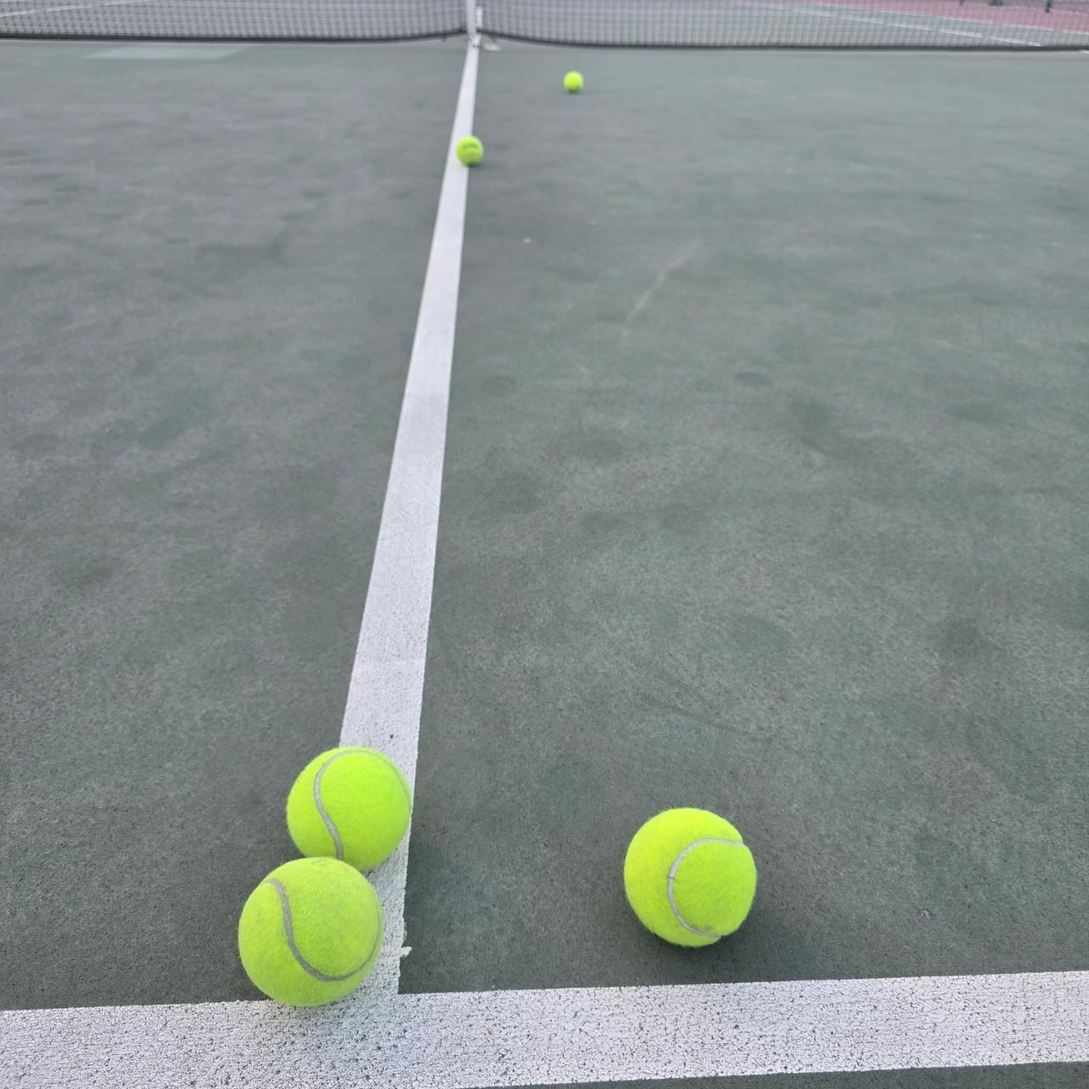tennis-ball: (236, 853, 385, 1007), (620, 803, 758, 949), (283, 744, 413, 871), (453, 134, 484, 166), (563, 71, 583, 93)
